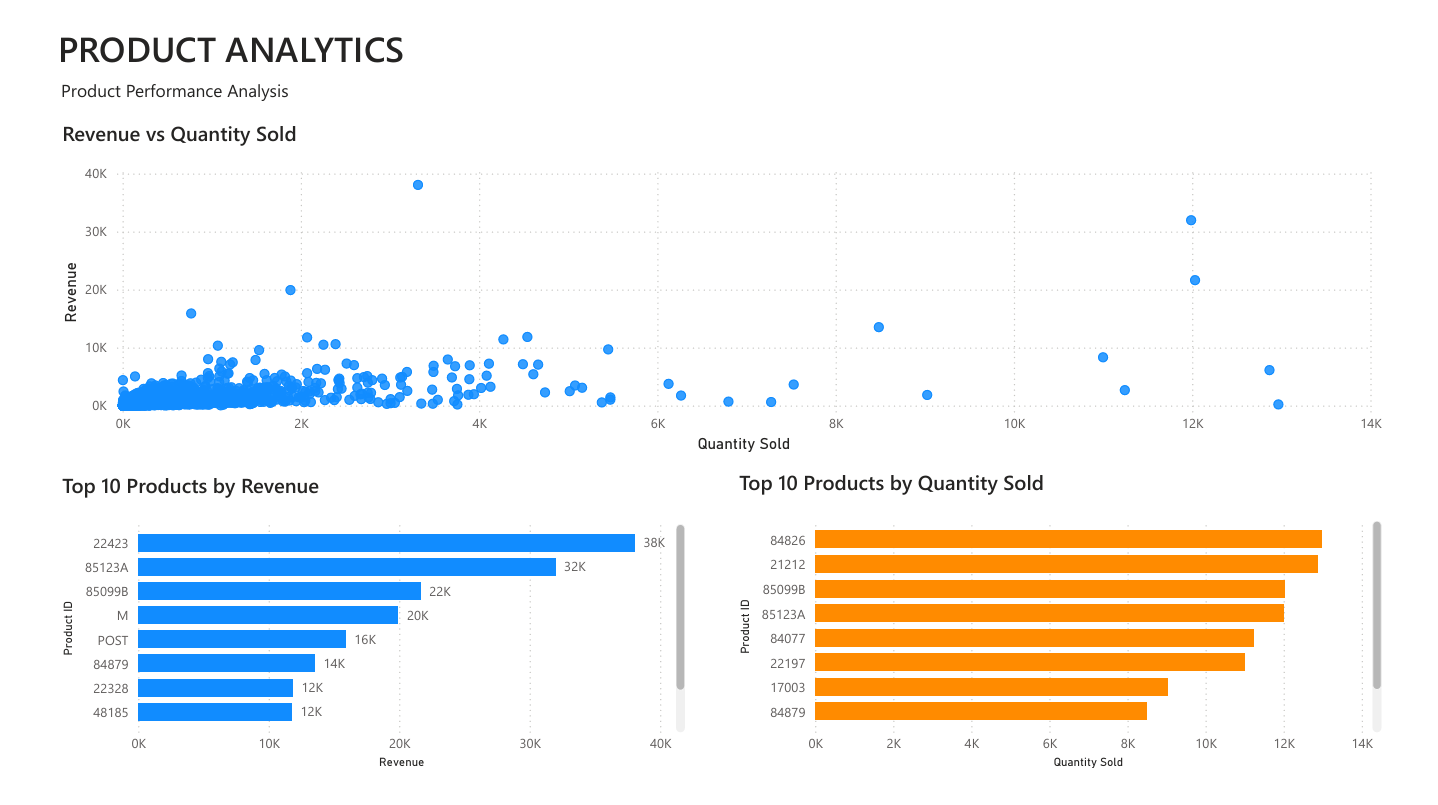

What the dashboard file says about the page in this screenshot:
{"tool":"powerbi","page":{"name":"Trang 3","canvas":[1280,720],"ordinal":2},"visuals":[{"type":"clusteredBarChart","title":"Top 10 Products by Revenue","fields":{"Y":["Sum(retail_project product_metrics.revenue)"],"Category":["retail_project product_metrics.StockCode"]},"box":[30.6,432.3,583.7,278],"z":0},{"type":"scatterChart","title":"Revenue vs Quantity Sold","fields":{"X":["Sum(retail_project product_metrics.total_quantity)"],"Y":["Sum(retail_project product_metrics.revenue)"],"Category":["retail_project product_metrics.StockCode"]},"box":[30.6,107.7,1224.1,311.5],"z":1000},{"type":"clusteredBarChart","title":"Top 10 Products by Quantity Sold","fields":{"Category":["retail_project product_metrics.StockCode"],"Y":["Sum(retail_project product_metrics.total_quantity)"]},"box":[653.5,429.4,601.1,280.9],"z":2000},{"type":"textbox","box":[27.3,15.5,372.7,73.6],"z":3001},{"type":"textbox","box":[30,65,268.8,31.2],"z":3002}]}

Visuals, with their boxes in screenshot pixels (x1, y1, x2, y2), scaled from the page's 1280x720 canvas onto the 1438x805 screenshot:
"Top 10 Products by Revenue" clusteredBarChart: box(34, 483, 690, 794)
"Revenue vs Quantity Sold" scatterChart: box(34, 120, 1410, 469)
"Top 10 Products by Quantity Sold" clusteredBarChart: box(734, 480, 1409, 794)
textbox: box(31, 17, 449, 100)
textbox: box(34, 73, 336, 108)
